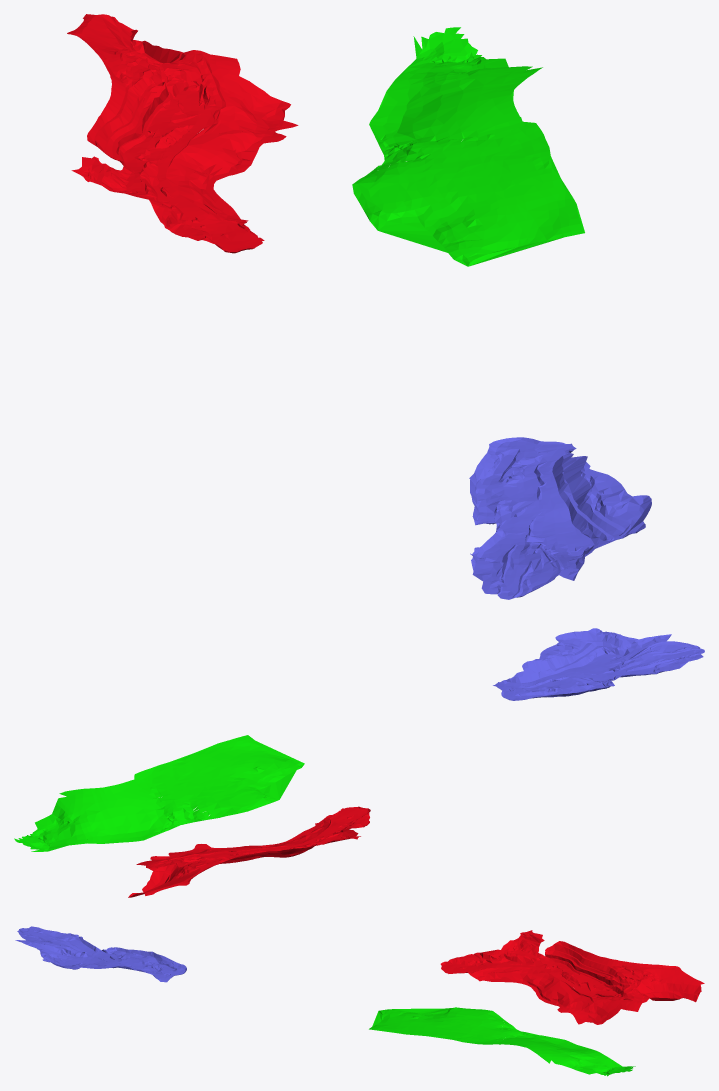
File: Modelo_AR.gltf
3 views of the same model, one above another, from view 1: azimuth 30°, elevation 25°; view 2: azimuth 150°, elevation 25°; view 3: azimuth 270°, elevation 25° (orthographic). The views are drawn at different scales.
Visible parts, largest first — view 1: Camada_03, Camada_01, Camada_02; view 2: Camada_03, Camada_02, Camada_01; view 3: Camada_01, Camada_03, Camada_02.
Boxes of the visible parts, bbox=[...] form: Camada_03: bbox=[352, 27, 584, 266]; Camada_01: bbox=[67, 14, 298, 253]; Camada_02: bbox=[469, 437, 651, 599]; Camada_03: bbox=[14, 735, 304, 851]; Camada_02: bbox=[493, 628, 704, 700]; Camada_01: bbox=[128, 806, 370, 897]; Camada_01: bbox=[440, 930, 704, 1024]; Camada_03: bbox=[369, 1007, 635, 1076]; Camada_02: bbox=[15, 926, 186, 982].
Bounding box in the file's own units: 0.5281 × 0.0537 × 1.09.
